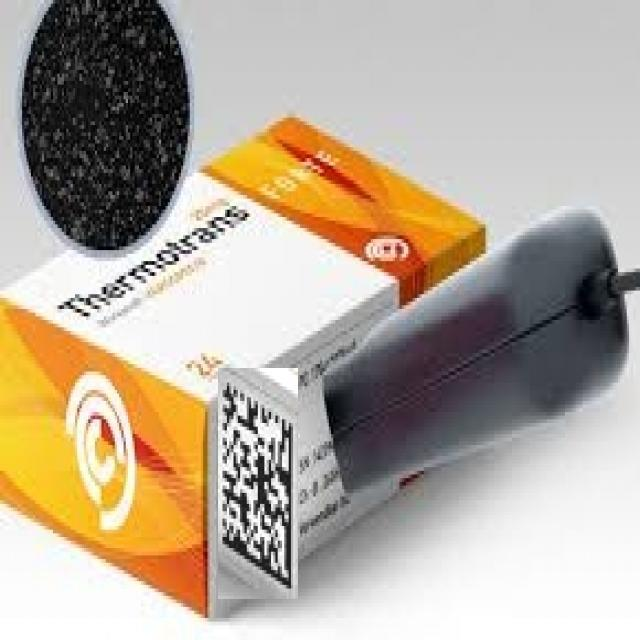Data-Matrix: (218, 368, 298, 599)
